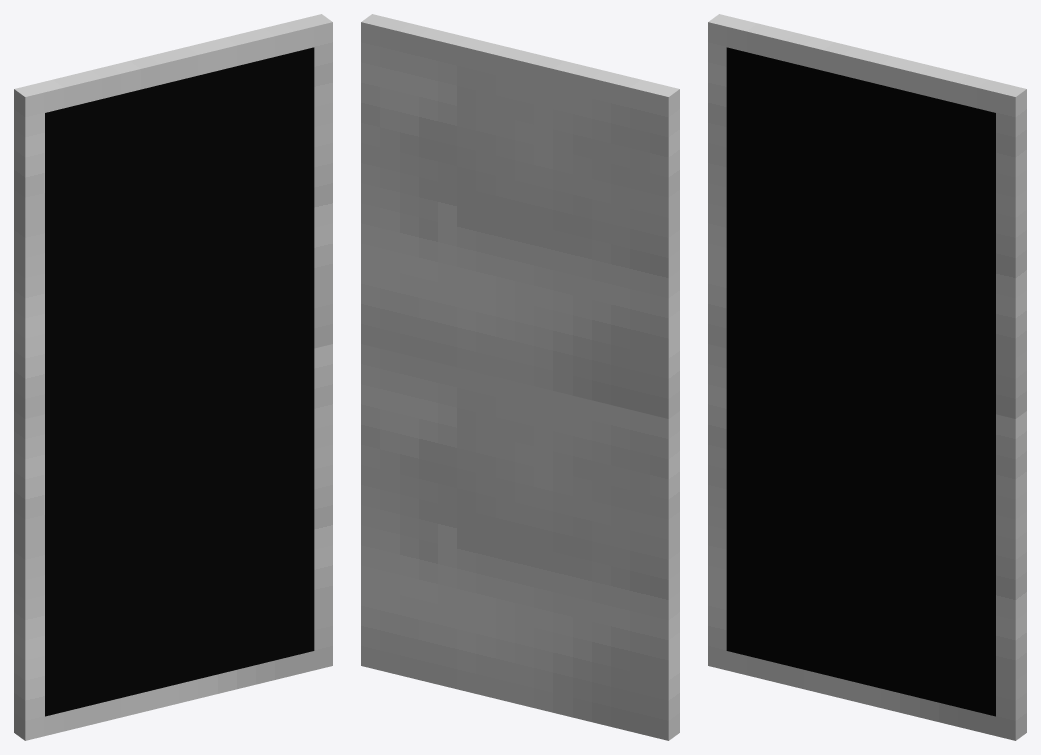
The model's file is mtr_pids_4.obj.
3 views of the same model, side by side, from view 1: azimuth 30°, elevation 25°; view 2: azimuth 150°, elevation 25°; view 3: azimuth 330°, elevation 25° (orthographic).
Visible parts, largest first — view 1: cube; view 2: cube; view 3: cube.
Boxes of the visible parts, left/top/right/bottom form: cube: left=14, top=14, right=332, bottom=740; cube: left=361, top=14, right=679, bottom=740; cube: left=708, top=14, right=1026, bottom=740.
Size of the model in its own units: 1 by 2 by 0.0656.
Materials: 2 (2 with a texture image).
